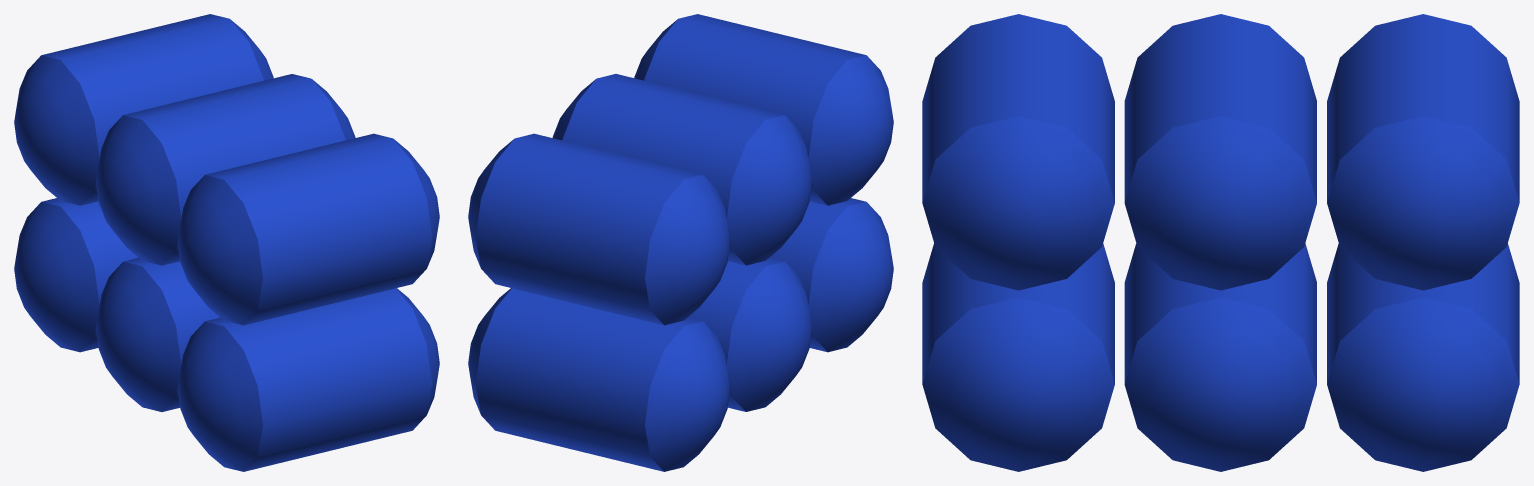
Rendered from oil01_6.fbx.
3 views of the same model, side by side, from view 1: azimuth 30°, elevation 25°; view 2: azimuth 150°, elevation 25°; view 3: azimuth 270°, elevation 25° (orthographic). The views are drawn at different scales.
Parts seen in each view (by area): view 1: OilTank001, OilTank004, OilTank003, OilTank002, OilTank006, OilTank005; view 2: OilTank003, OilTank006, OilTank002, OilTank001, OilTank005, OilTank004; view 3: OilTank001, OilTank003, OilTank002, OilTank004, OilTank005, OilTank006.
Boxes of the visible parts, left/top/right/bottom form: OilTank001: left=177, top=133, right=439, bottom=325; OilTank004: left=177, top=288, right=439, bottom=471; OilTank003: left=14, top=14, right=273, bottom=205; OilTank002: left=96, top=74, right=355, bottom=265; OilTank006: left=14, top=198, right=138, bottom=352; OilTank005: left=96, top=258, right=219, bottom=411; OilTank003: left=468, top=133, right=730, bottom=325; OilTank006: left=468, top=288, right=730, bottom=471; OilTank002: left=552, top=74, right=811, bottom=265; OilTank001: left=634, top=14, right=893, bottom=205; OilTank005: left=688, top=257, right=811, bottom=411; OilTank004: left=769, top=198, right=893, bottom=352; OilTank001: left=922, top=14, right=1114, bottom=290; OilTank003: left=1327, top=14, right=1519, bottom=290; OilTank002: left=1124, top=14, right=1316, bottom=290; OilTank004: left=922, top=243, right=1114, bottom=471; OilTank005: left=1124, top=243, right=1316, bottom=471; OilTank006: left=1327, top=243, right=1519, bottom=471.
Size of the model in its own units: 4.28 by 4.89 by 7.44.
